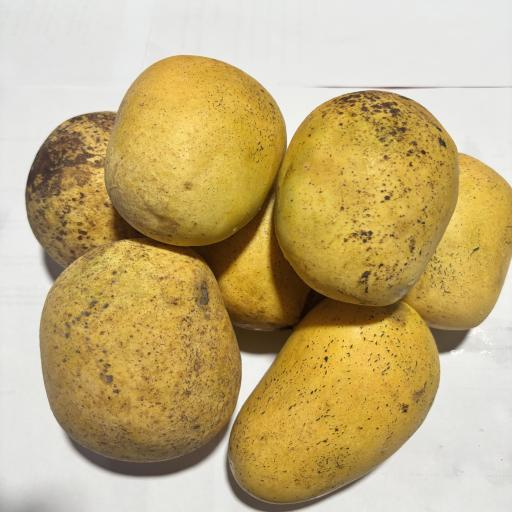fruit: (222, 278, 446, 511), (40, 233, 246, 476), (270, 82, 467, 312), (99, 46, 289, 252), (382, 146, 512, 334), (208, 161, 326, 337), (24, 102, 147, 266)
